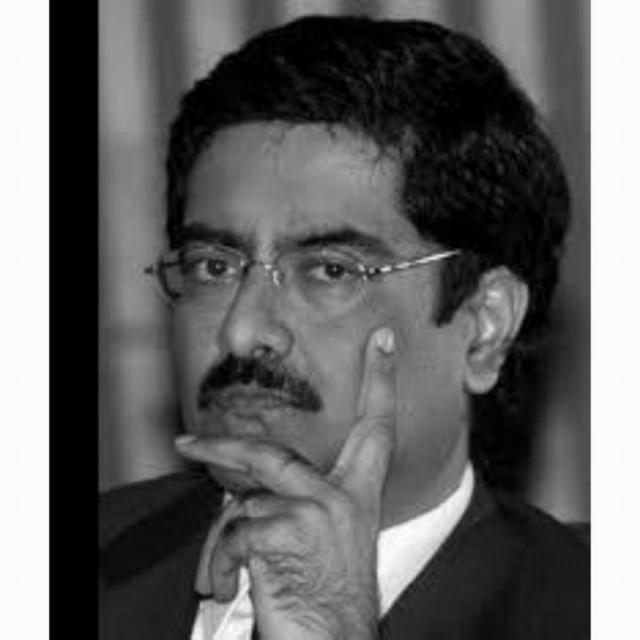real: (166, 94, 468, 500)
